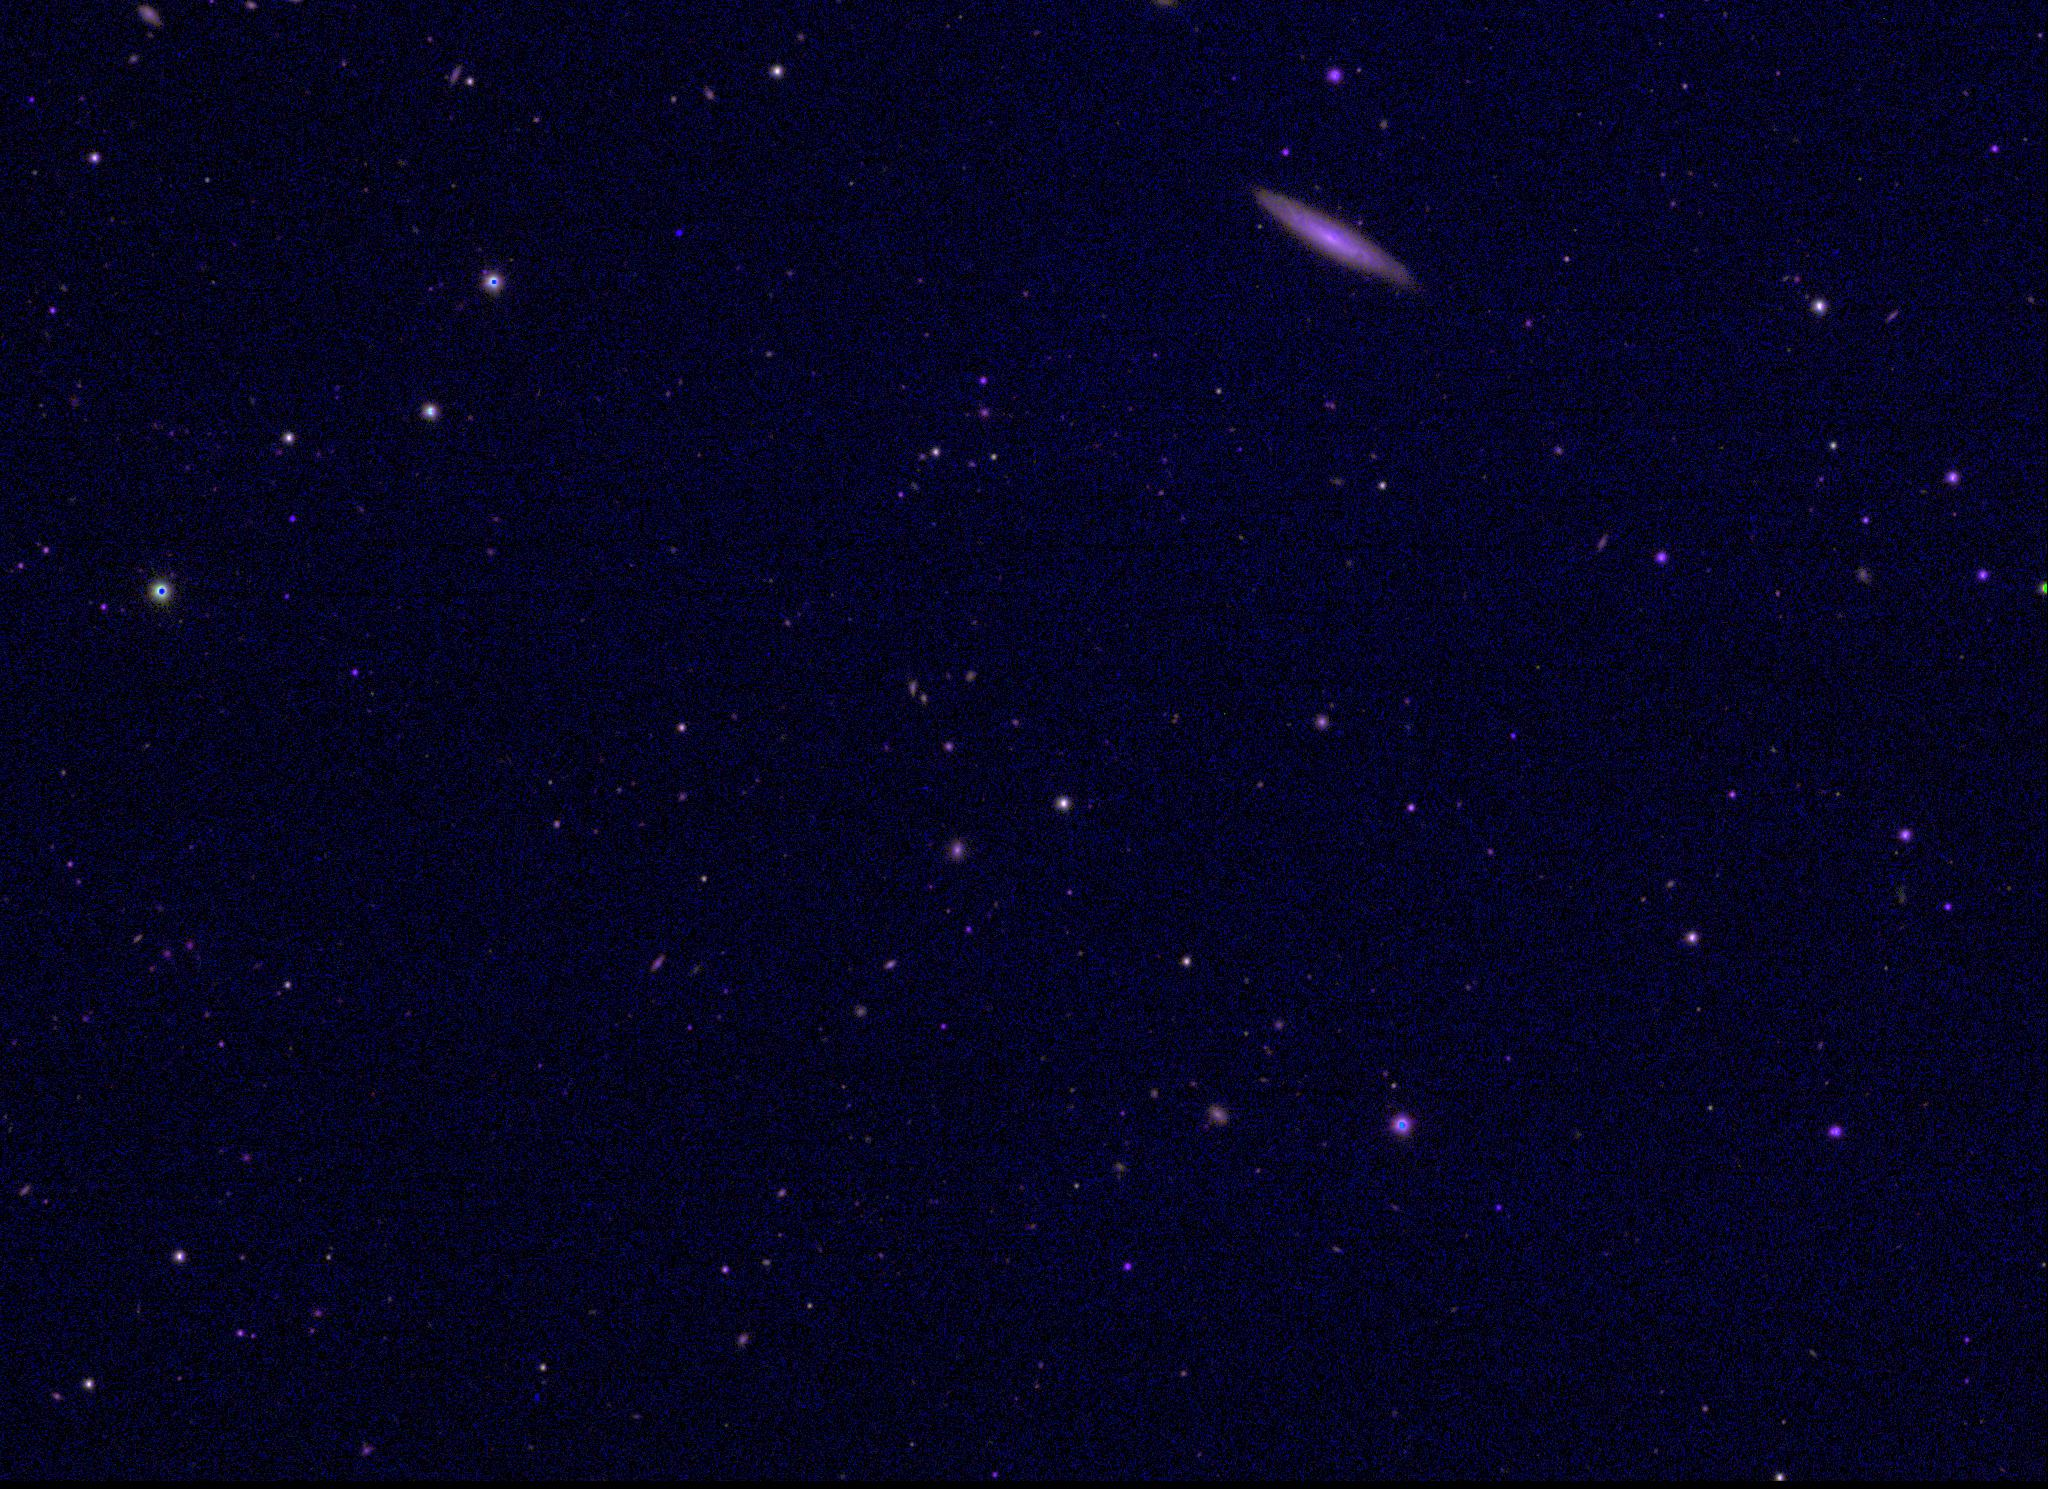L: (671, 226, 685, 240)
